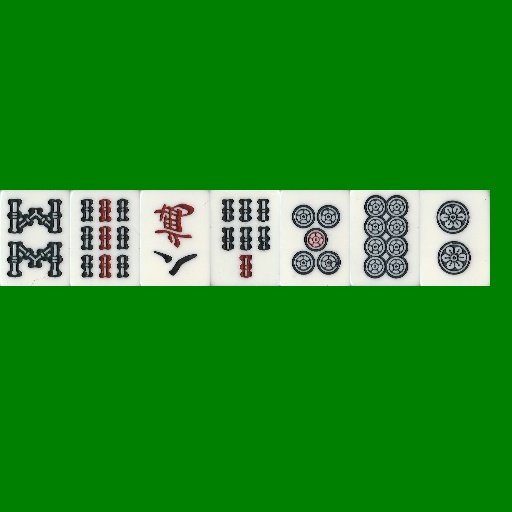2p: (420, 190, 490, 286)
5p: (280, 190, 350, 286)
7s: (210, 190, 280, 286)
8m: (140, 190, 210, 286)
8p: (350, 190, 420, 286)
8s: (0, 190, 70, 286)
9s: (70, 190, 140, 286)
